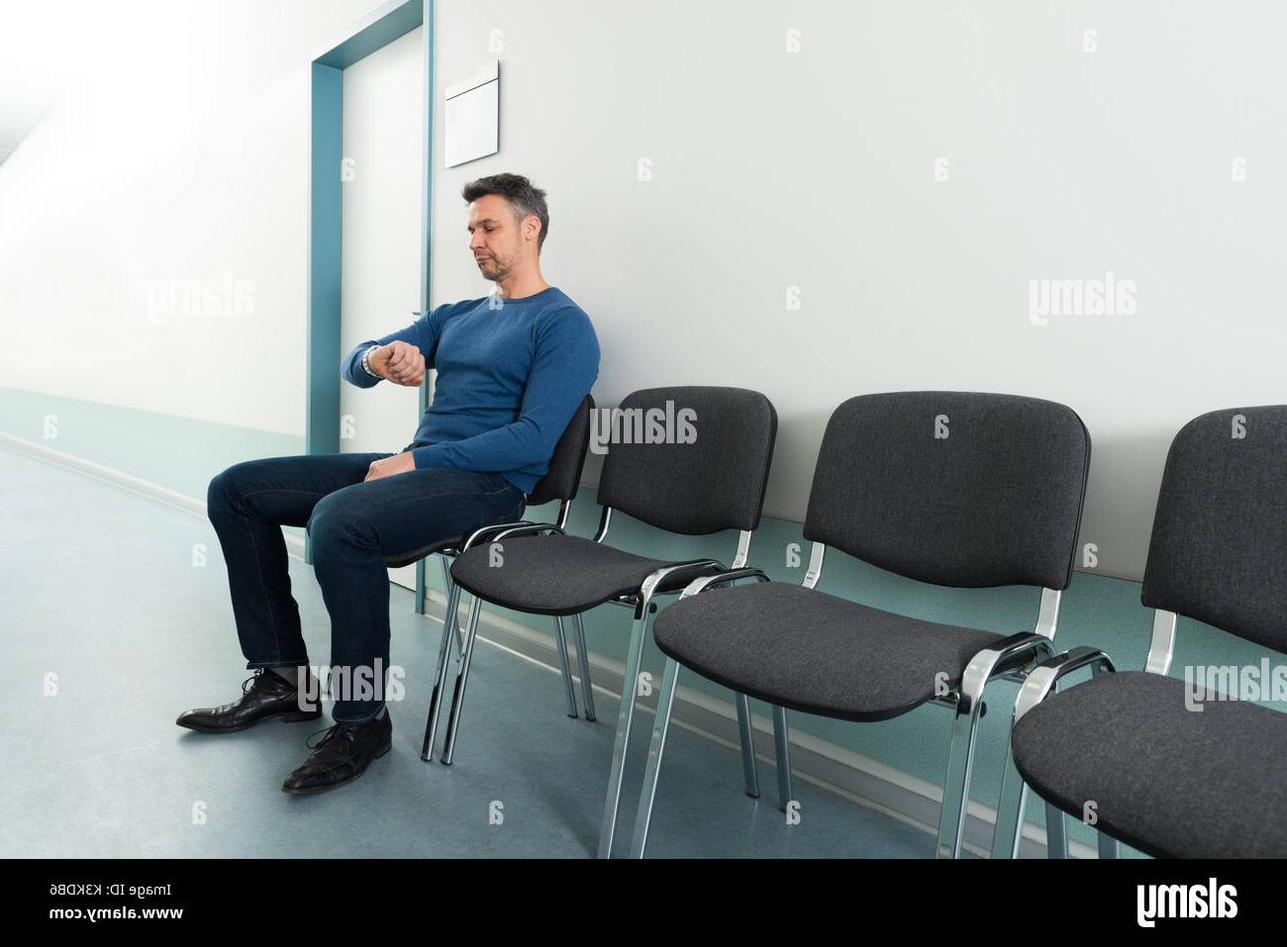sweater: (337, 285, 604, 497)
trousers: (203, 441, 529, 721)
